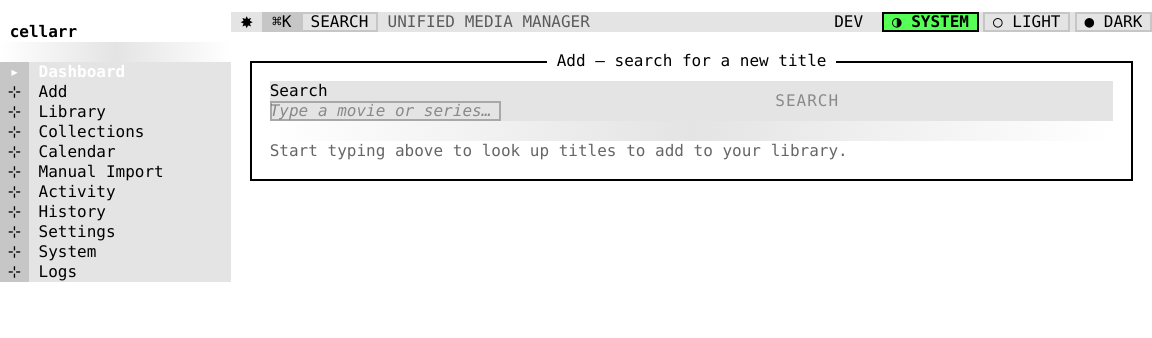
Test case: Add / search-new screen › splits results into MOVIES and TV sections
Type "blade" into the field named "add-search" at (385, 111), box x1=270 y1=101 x2=501 y2=121
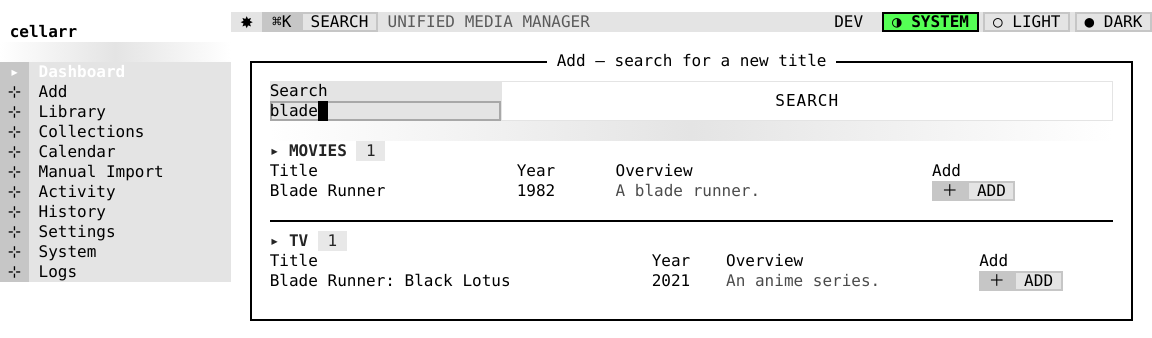
Expected: the text "MOVIES" is shown, x1=289 y1=141 x2=347 y2=160
Expected: the text "TV" is shown, x1=289 y1=231 x2=308 y2=250
Expected: the text "Blade Runner" is shown, x1=270 y1=181 x2=507 y2=201
